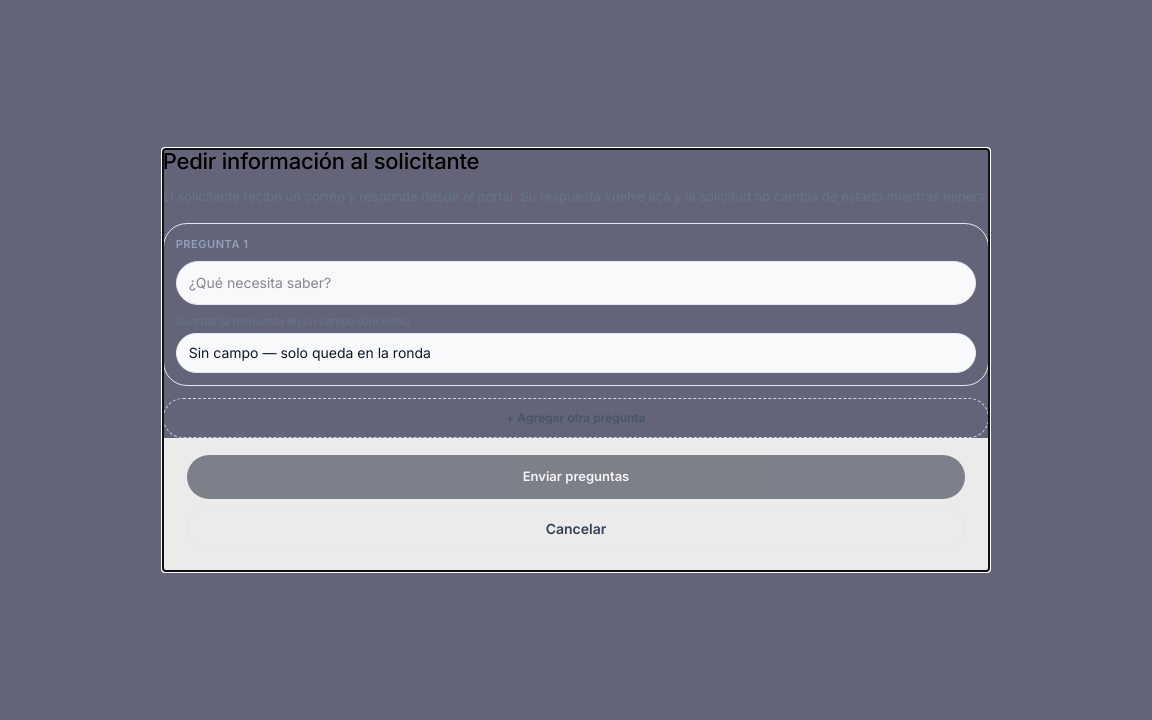
Test: PedirInformacion › muestra el motivo del servidor cuando rechaza (p. ej. ya hay una ronda)
Type "¿Material?" into the field.
click(576, 283); type("¿Material?")  # box [176,261,976,305]
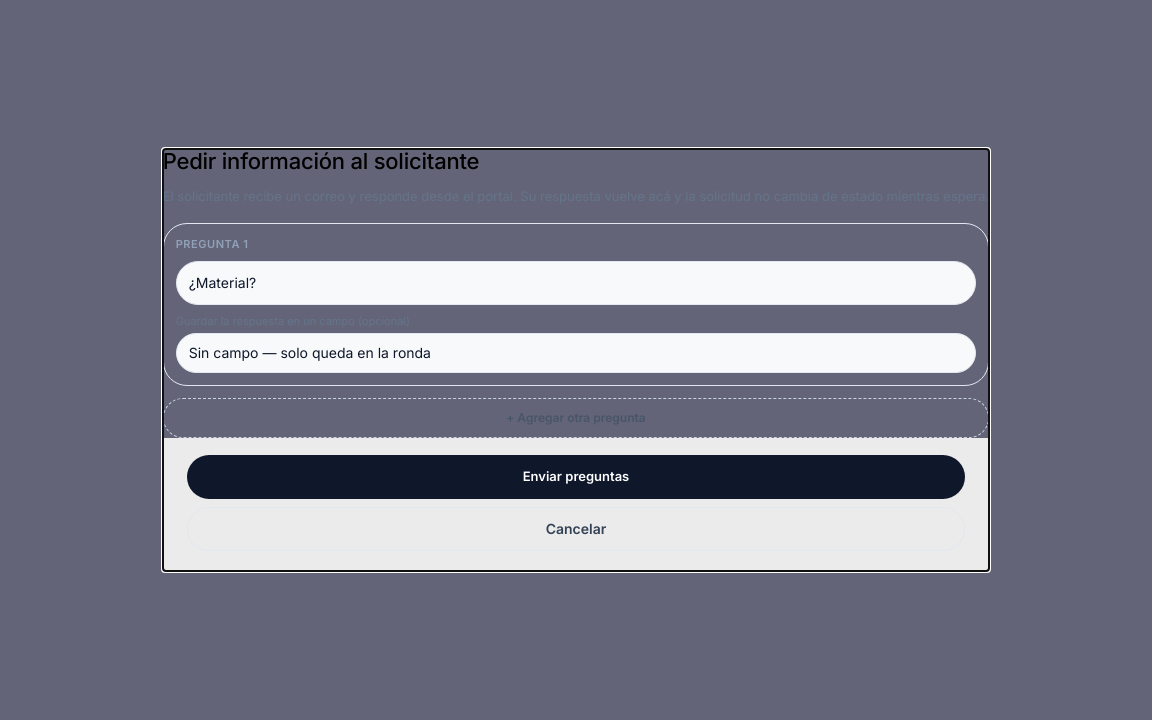
Click the button "Enviar preguntas".
click(576, 477)  # box [187,455,965,499]
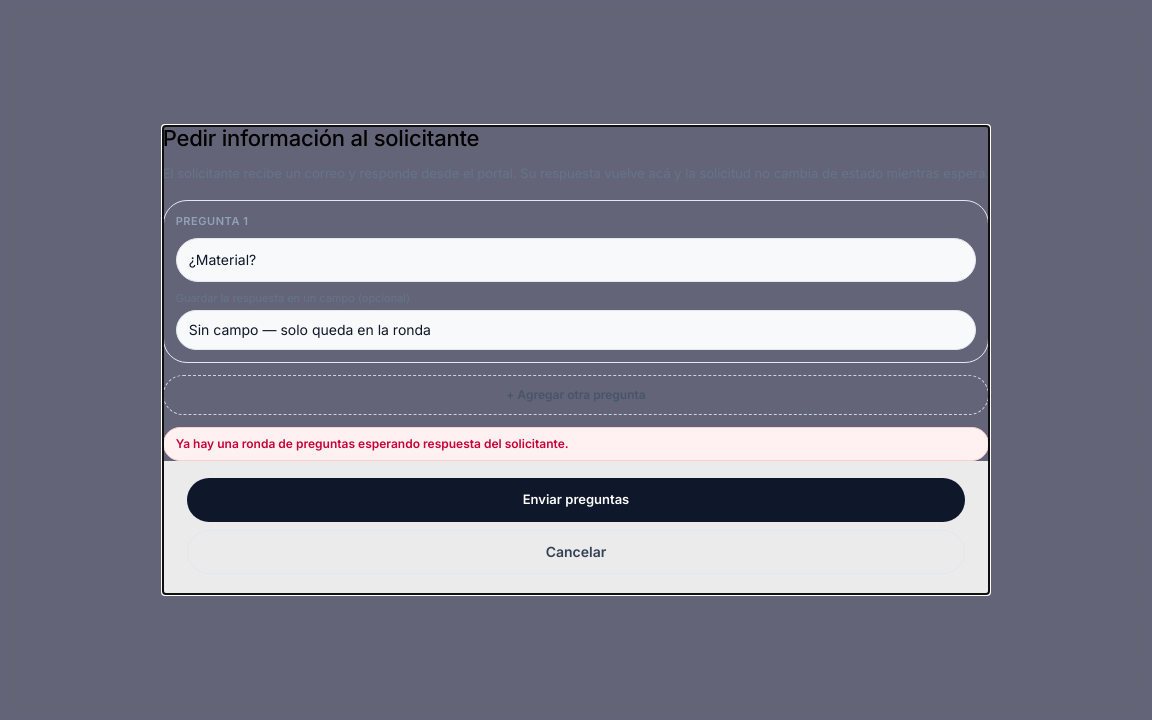
Expected: the message shows "Ya hay una ronda", [176,436,569,451]
